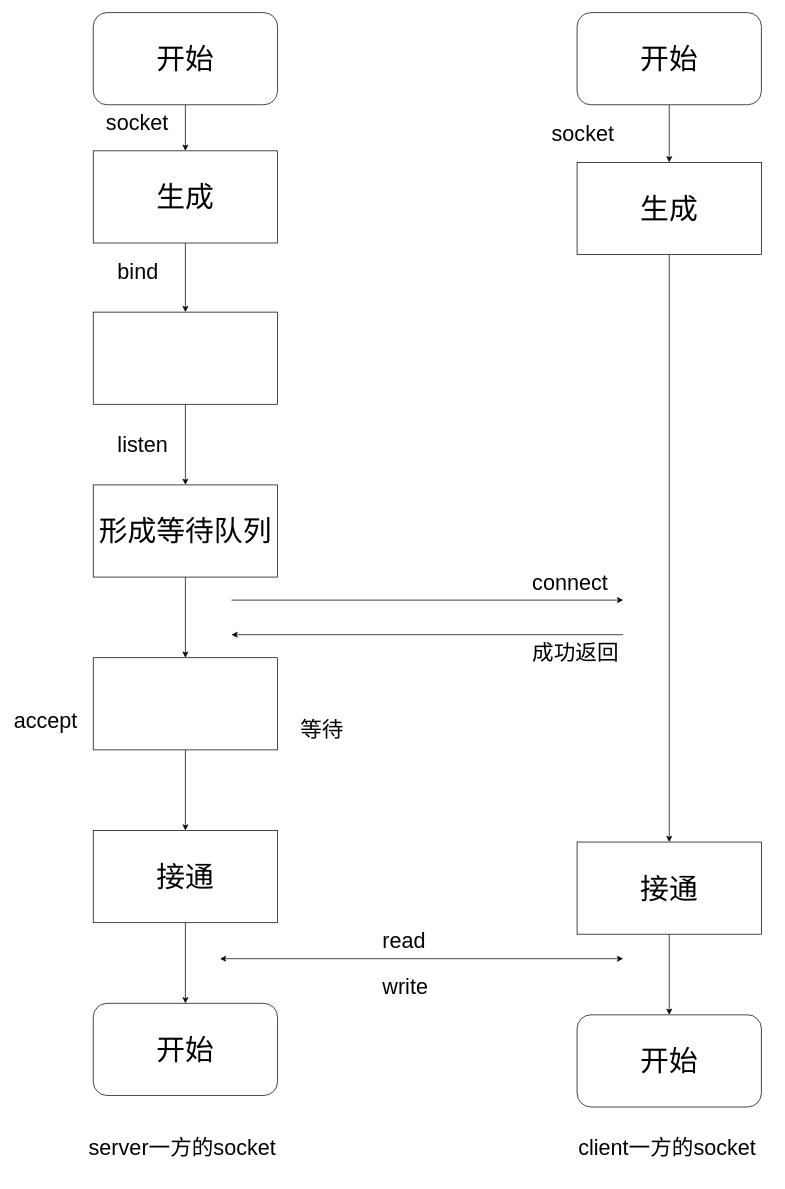
The diagram is 785 pixels wide and 1189 high, and some of its shapes have lost their labels. The centre of each missing label's shape, as x and y in pixels:
取得地址: (185,357)
接收连接请求: (185,703)
